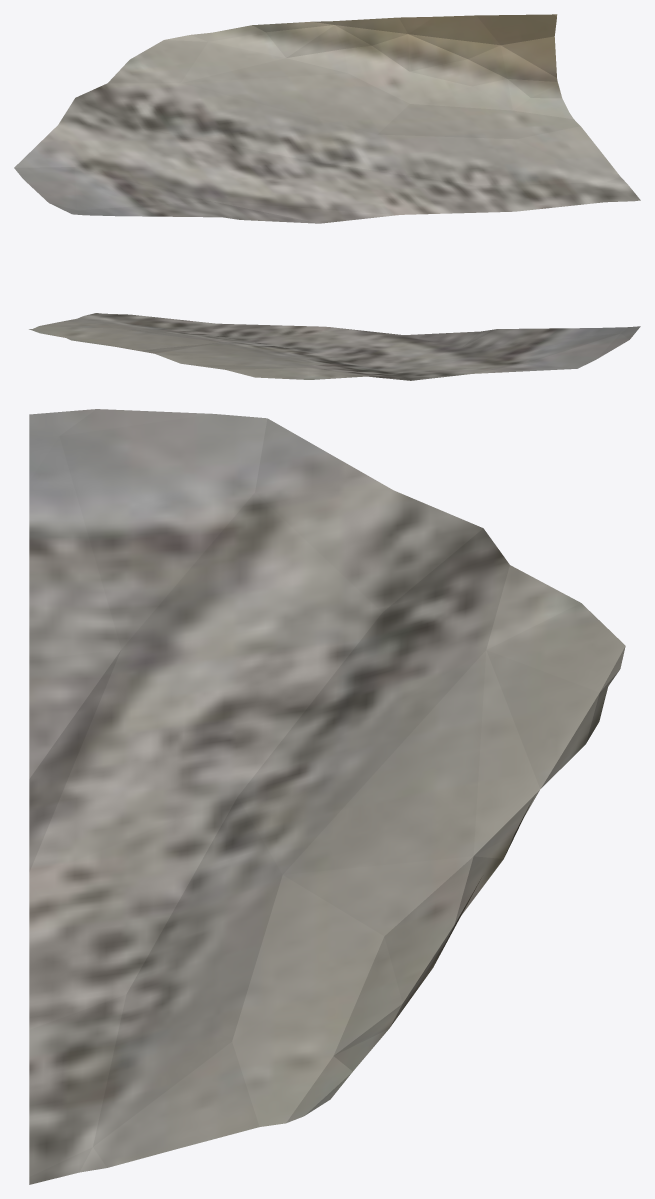
3 renders of one model, top to bottom at view 1: azimuth 30°, elevation 25°; view 2: azimuth 150°, elevation 25°; view 3: azimuth 270°, elevation 25°, orthographic. The views are drawn at different scales.
Size of the model in its own units: 0.6059 by 0.1258 by 0.2844.
1 material, 1 textured.
